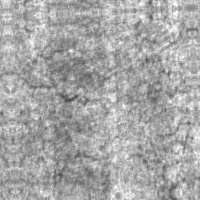crazing: (18, 42, 104, 111)
